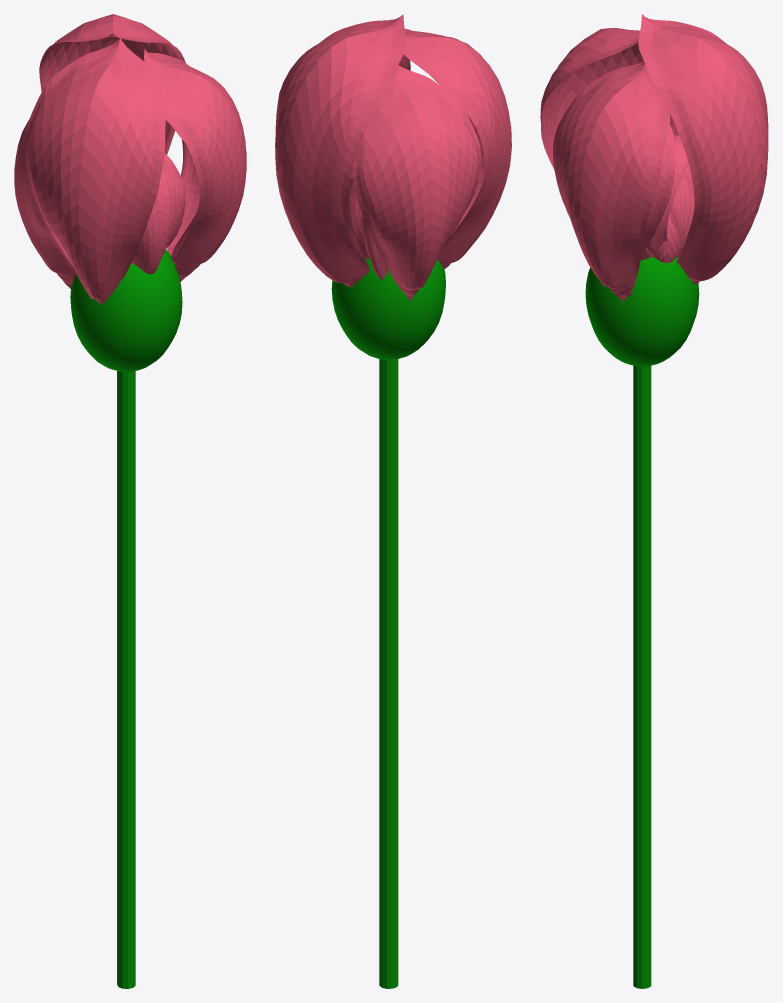
The model's file is Lotus001.fbx.
The picture shows the model from 3 angles, left to right: view 1: azimuth 30°, elevation 25°; view 2: azimuth 150°, elevation 25°; view 3: azimuth 270°, elevation 25°; orthographic projection.
Visible parts, largest first — view 1: nurbsToPoly11, pCylinder1, nurbsToPoly24, pSphere4, nurbsToPoly10, nurbsToPoly8, nurbsToPoly12, nurbsToPoly9; view 2: nurbsToPoly10, nurbsToPoly12, pCylinder1, nurbsToPoly11, pSphere4, nurbsToPoly17, nurbsToPoly23; view 3: nurbsToPoly10, nurbsToPoly24, pCylinder1, pSphere4, nurbsToPoly11, nurbsToPoly9, nurbsToPoly22, nurbsToPoly17, nurbsToPoly15.
Boxes of the visible parts, <box> form: nurbsToPoly11: <box>24,38,165,304</box>; pCylinder1: <box>117,371,135,988</box>; nurbsToPoly24: <box>144,49,246,281</box>; pSphere4: <box>70,249,182,371</box>; nurbsToPoly10: <box>39,14,185,154</box>; nurbsToPoly8: <box>132,154,185,274</box>; nurbsToPoly12: <box>14,120,76,288</box>; nurbsToPoly9: <box>165,111,199,264</box>; nurbsToPoly10: <box>275,14,406,286</box>; nurbsToPoly12: <box>352,65,480,301</box>; pCylinder1: <box>379,359,398,988</box>; nurbsToPoly11: <box>403,29,511,269</box>; pSphere4: <box>331,258,445,359</box>; nurbsToPoly17: <box>348,177,369,258</box>; nurbsToPoly23: <box>361,214,387,279</box>; nurbsToPoly10: <box>638,14,768,284</box>; nurbsToPoly24: <box>553,61,669,302</box>; pCylinder1: <box>633,365,651,988</box>; pSphere4: <box>585,257,699,366</box>; nurbsToPoly11: <box>540,28,643,168</box>; nurbsToPoly9: <box>641,125,675,255</box>; nurbsToPoly22: <box>646,135,689,256</box>; nurbsToPoly17: <box>669,174,694,256</box>; nurbsToPoly15: <box>645,214,680,263</box>.
Bounding box in the file's own units: 12.52 × 56.12 × 12.03.
